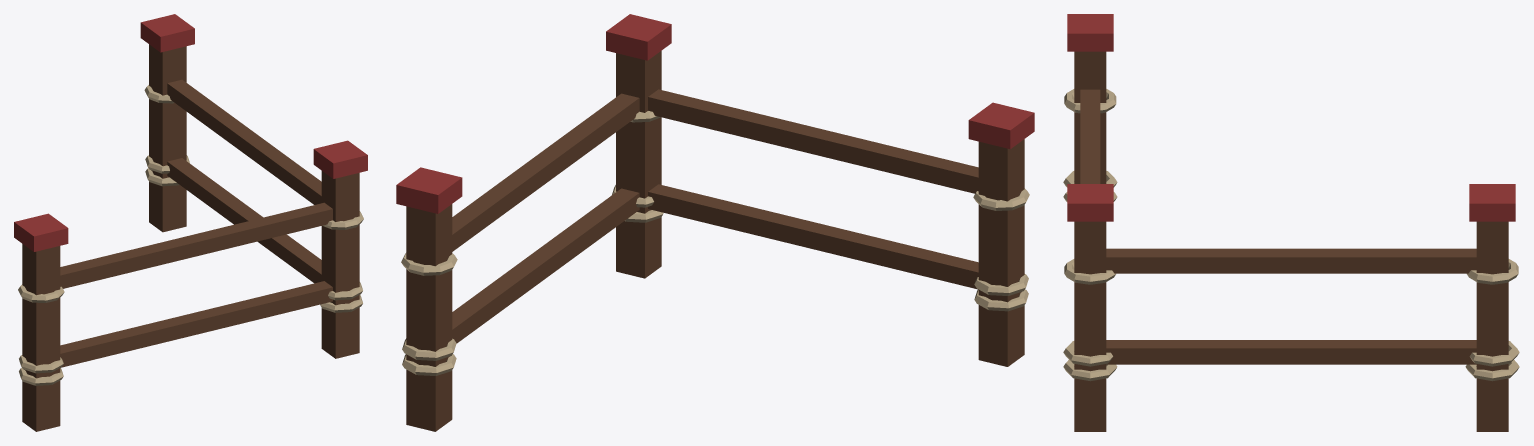
File: PirateCove_FenceCorner_Standard.glb
3 views of the same model, side by side, from view 1: azimuth 30°, elevation 25°; view 2: azimuth 150°, elevation 25°; view 3: azimuth 270°, elevation 25° (orthographic). The views are drawn at different scales.
Parts seen in each view (by area): view 1: PirateCove_FenceCorner_Standard; view 2: PirateCove_FenceCorner_Standard; view 3: PirateCove_FenceCorner_Standard.
Part boxes in pixels (x1,y1,x2,y2): PirateCove_FenceCorner_Standard: (14,14,367,431); PirateCove_FenceCorner_Standard: (396,14,1034,431); PirateCove_FenceCorner_Standard: (1063,14,1519,431).
Size of the model in its own units: 2.27 by 1.27 by 2.27.
